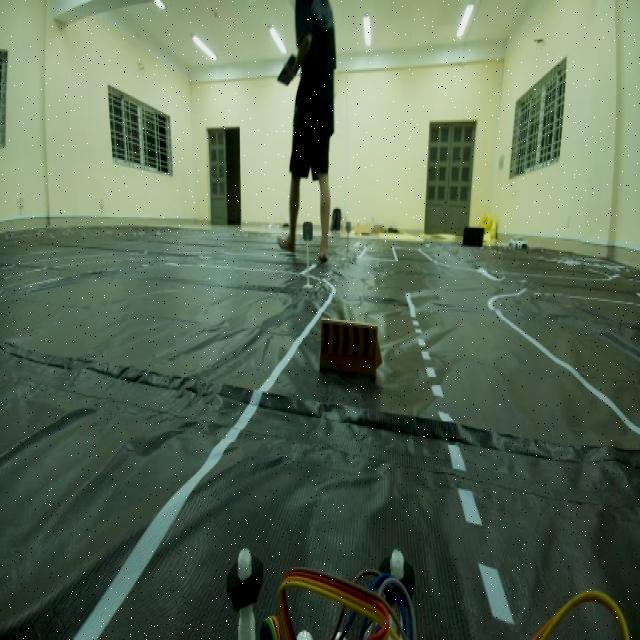roadblock: (311, 306, 389, 398)
